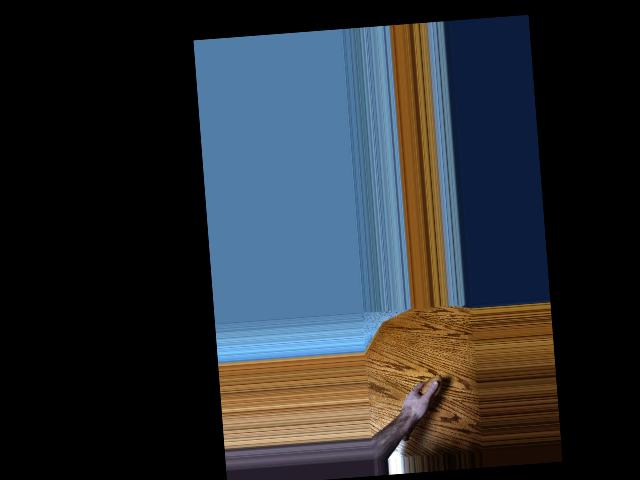sweet_potato: (398, 373, 447, 440)
